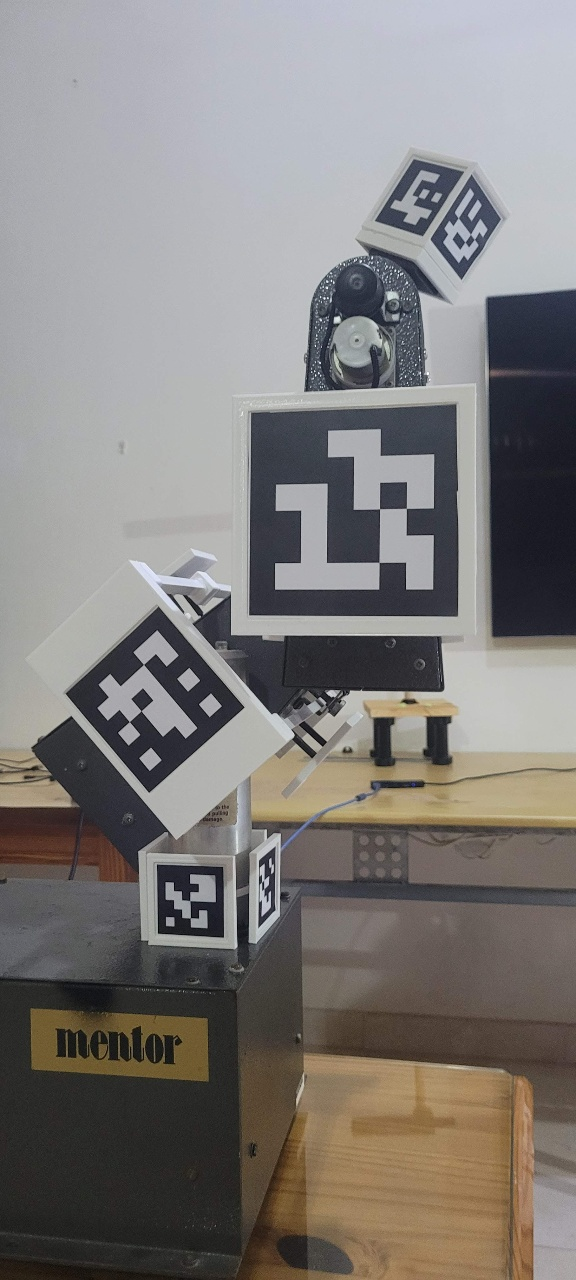Robot: (24, 146, 509, 952)
